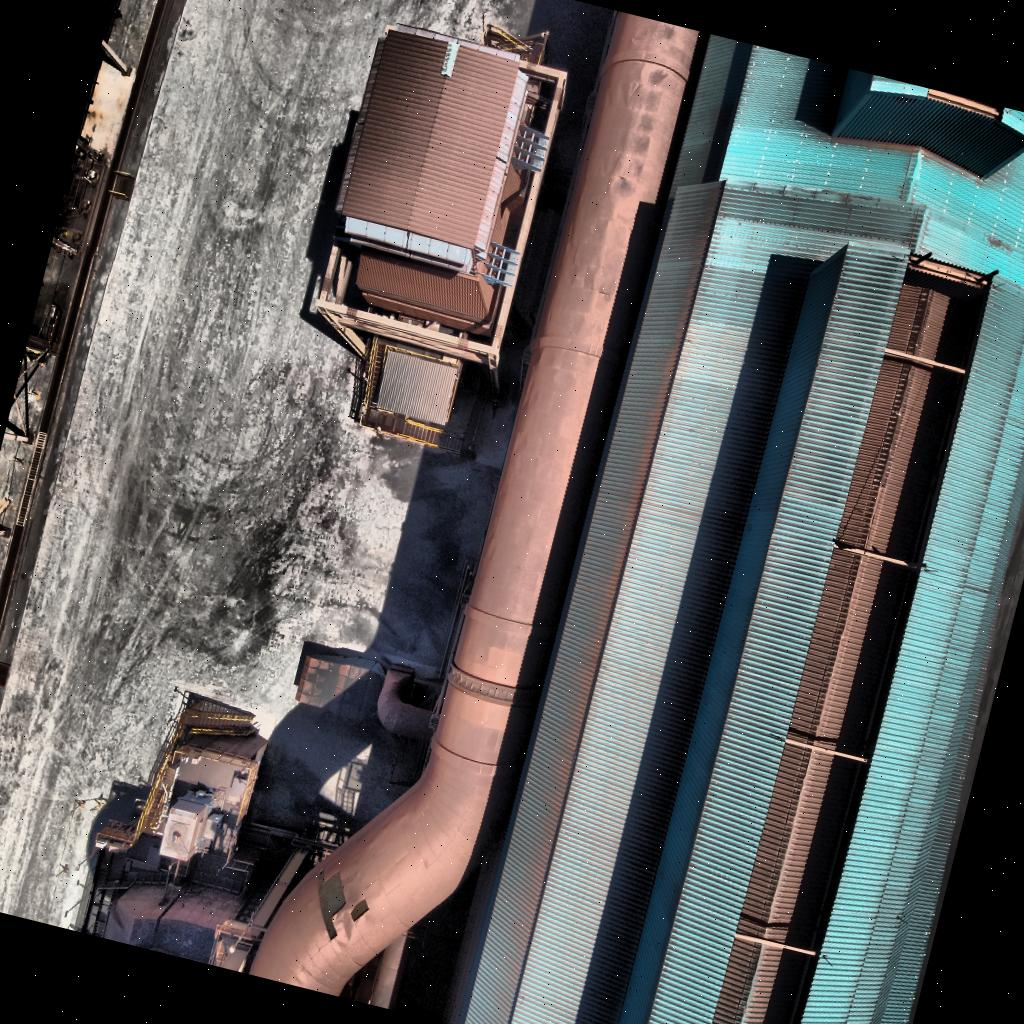Failures: (290, 852, 356, 958), (344, 890, 376, 932)
